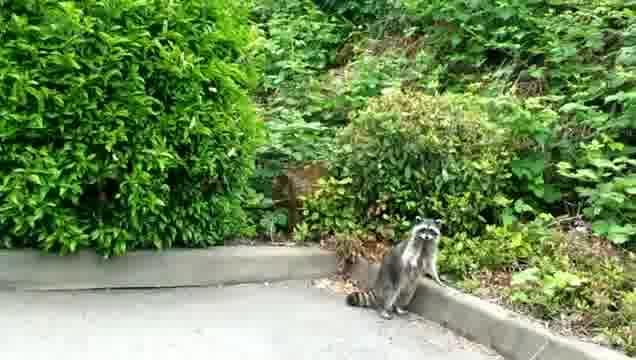raccoon: (346, 216, 445, 321)
